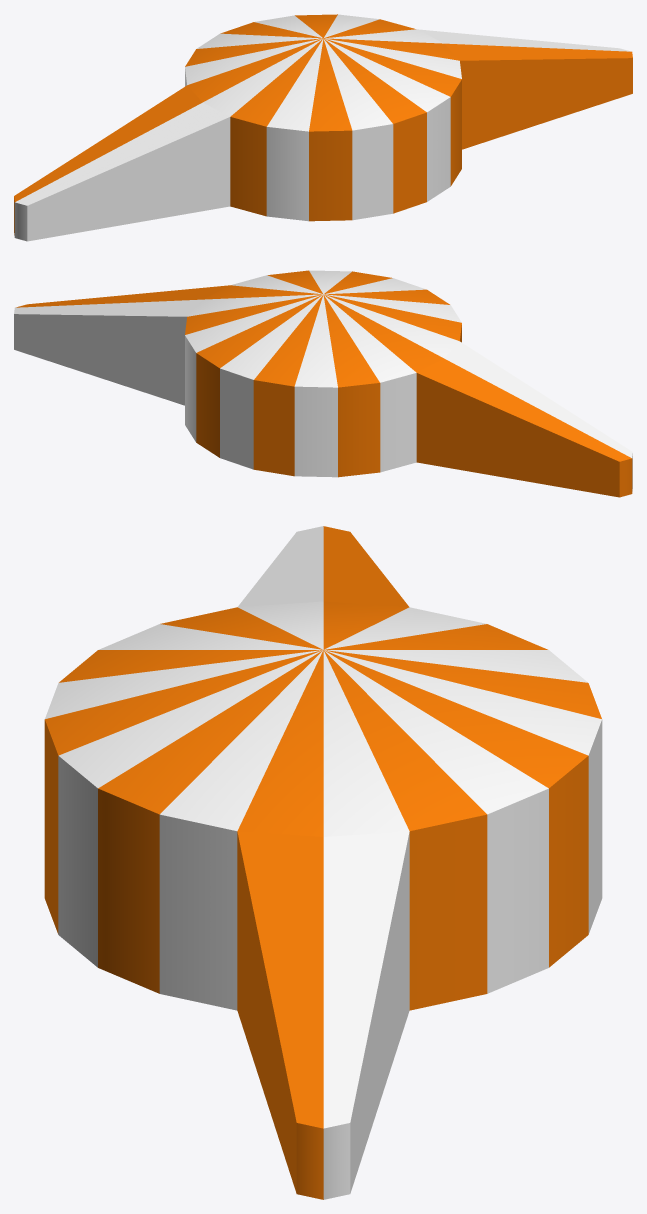
Rendered from RoundBarrierASpingingB.fbx.
The picture shows the model from 3 angles, top to bottom: view 1: azimuth 30°, elevation 25°; view 2: azimuth 150°, elevation 25°; view 3: azimuth 270°, elevation 25°; orthographic projection. The views are drawn at different scales.
Visible parts, largest first — view 1: RoundBarrierASpingingB; view 2: RoundBarrierASpingingB; view 3: RoundBarrierASpingingB.
Part boxes in pixels (bbox=[...]): RoundBarrierASpingingB: bbox=[14, 14, 632, 241]; RoundBarrierASpingingB: bbox=[14, 270, 632, 497]; RoundBarrierASpingingB: bbox=[44, 526, 602, 1199].
Bounding box in the file's own units: 317 × 60.93 × 124.
Materials: 1 (1 with a texture image).
